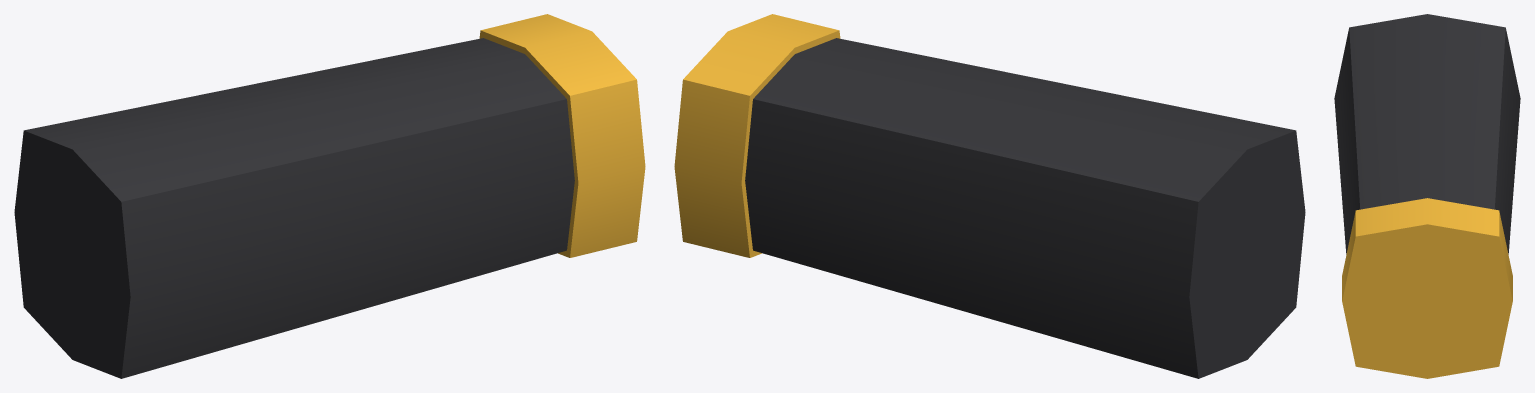
File: mini_lod1.glb
3 renders of one model, left to right at view 1: azimuth 30°, elevation 25°; view 2: azimuth 150°, elevation 25°; view 3: azimuth 270°, elevation 25°, orthographic. The views are drawn at different scales.
Parts seen in each view (by area): view 1: mini_lod1; view 2: mini_lod1; view 3: mini_lod1.
Boxes of the visible parts, x1=… form: mini_lod1: x1=14, y1=14, x2=645, y2=378; mini_lod1: x1=674, y1=14, x2=1305, y2=378; mini_lod1: x1=1334, y1=14, x2=1520, y2=378.
Size of the model in its own units: 0.031 by 0.012 by 0.012.
